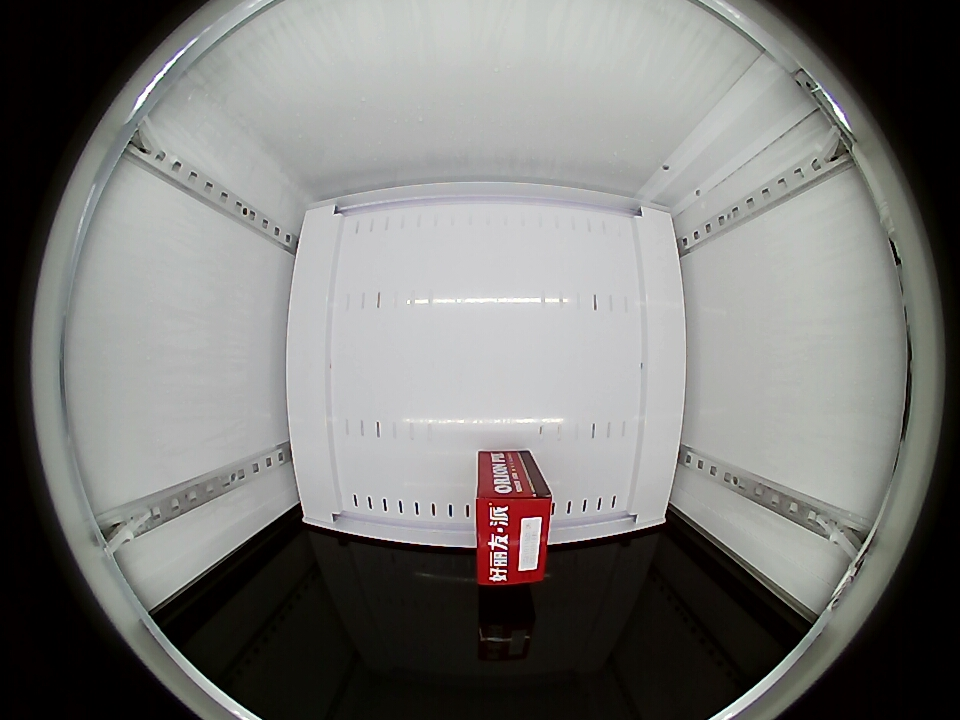haoliyou: (475, 468, 553, 586)
